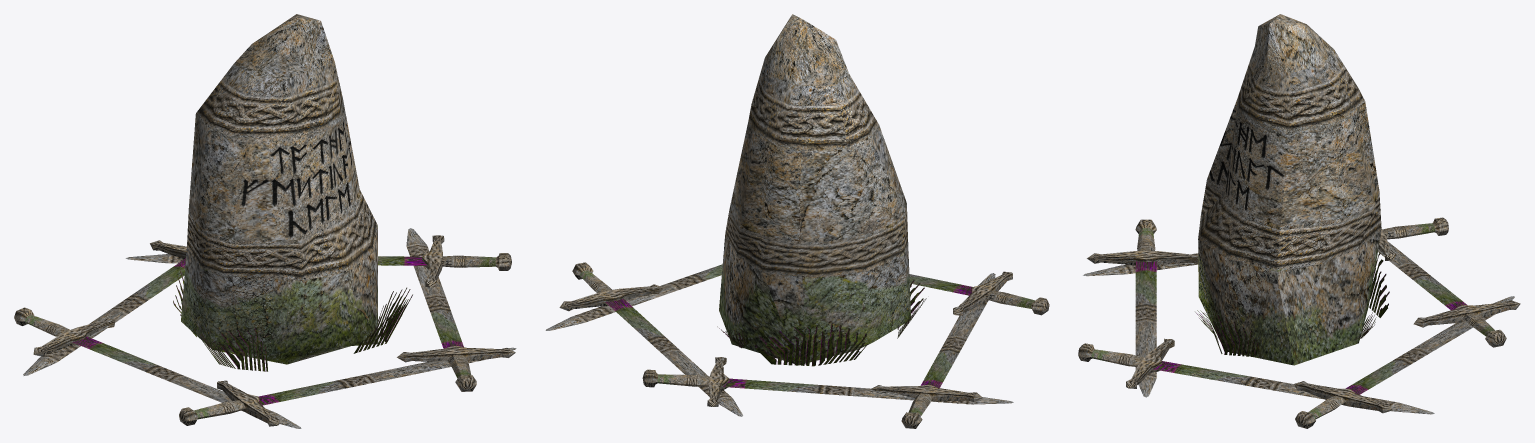
The model's file is mm9_deco_penancequest.glb.
3 views of the same model, side by side, from view 1: azimuth 30°, elevation 25°; view 2: azimuth 150°, elevation 25°; view 3: azimuth 270°, elevation 25° (orthographic). The views are drawn at different scales.
Visible parts, largest first — view 1: Penancequest; view 2: Penancequest; view 3: Penancequest.
Boxes of the visible parts, left/top/right/bottom form: Penancequest: left=14, top=14, right=516, bottom=428; Penancequest: left=545, top=14, right=1049, bottom=428; Penancequest: left=1078, top=14, right=1520, bottom=428.
Size of the model in its own units: 2.55 by 1.64 by 2.1.
Materials: 3 (3 with a texture image).
